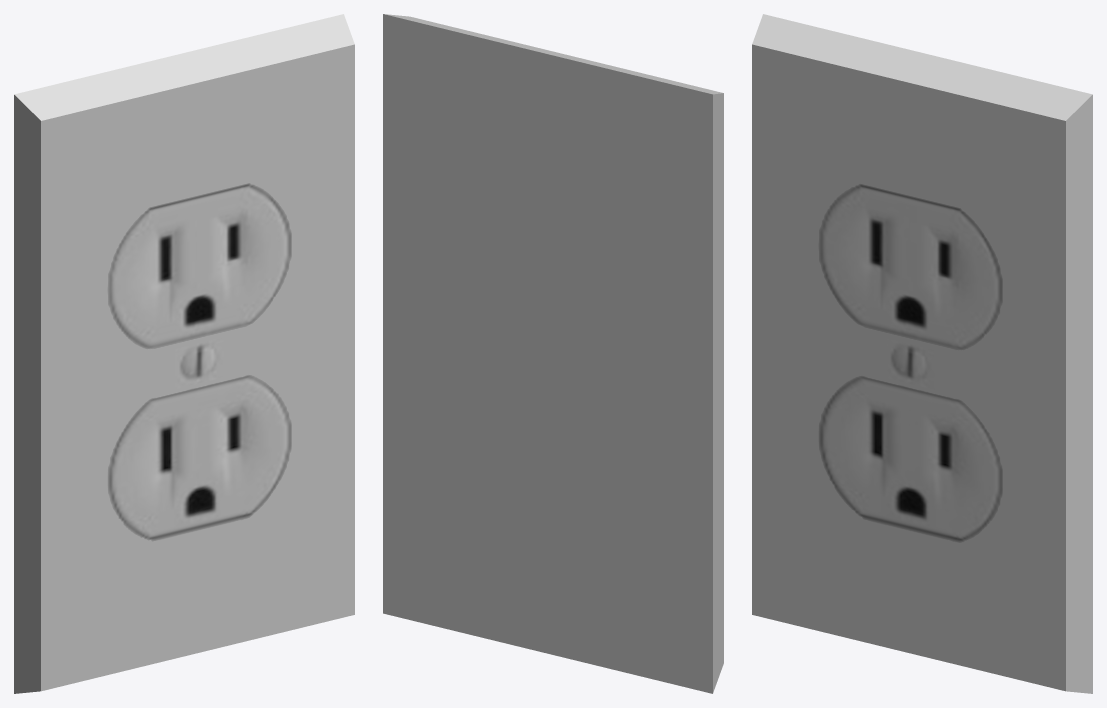
File: simpleoutlet1.fbx
3 renders of one model, left to right at view 1: azimuth 30°, elevation 25°; view 2: azimuth 150°, elevation 25°; view 3: azimuth 330°, elevation 25°, orthographic.
Parts seen in each view (by area): view 1: outlet1; view 2: outlet1; view 3: outlet1.
Part boxes in pixels (bbox=[...]): outlet1: bbox=[14, 14, 354, 693]; outlet1: bbox=[383, 14, 723, 693]; outlet1: bbox=[752, 14, 1092, 693].
Size of the model in its own units: 42.68 by 74.14 by 4.27.
1 material, 1 textured.
